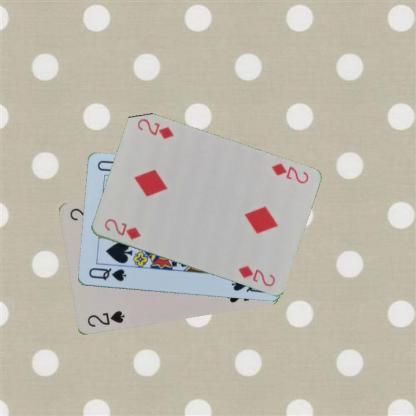2d: (268, 161, 310, 185), (102, 216, 142, 241)
2s: (84, 308, 126, 328)
Qs: (86, 265, 127, 283)
